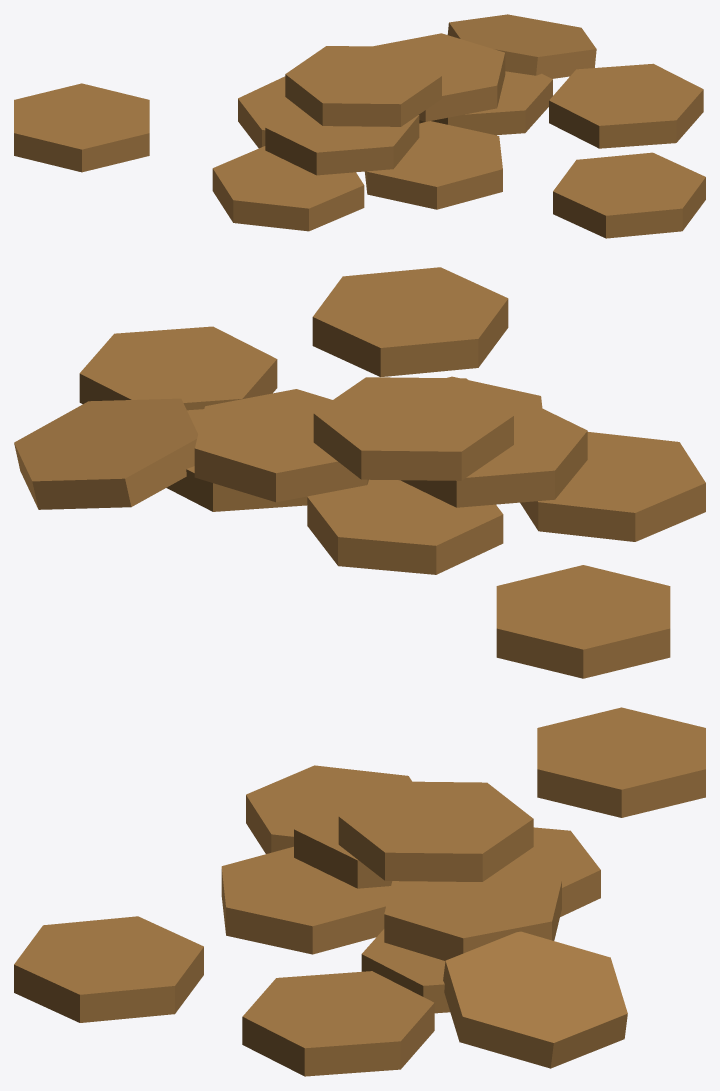
File: SM_Item_Coins_01.glb
The picture shows the model from 3 angles, top to bottom: view 1: azimuth 30°, elevation 25°; view 2: azimuth 150°, elevation 25°; view 3: azimuth 270°, elevation 25°; orthographic projection. The views are drawn at different scales.
Visible parts, largest first — view 1: SM_Item_Coins_01; view 2: SM_Item_Coins_01; view 3: SM_Item_Coins_01.
Boxes of the visible parts, left/top/right/bottom form: SM_Item_Coins_01: left=14, top=14, right=705, bottom=238; SM_Item_Coins_01: left=14, top=267, right=705, bottom=678; SM_Item_Coins_01: left=14, top=707, right=705, bottom=1076.
Bounding box in the file's own units: 0.00351 × 0.000444 × 0.00302.
